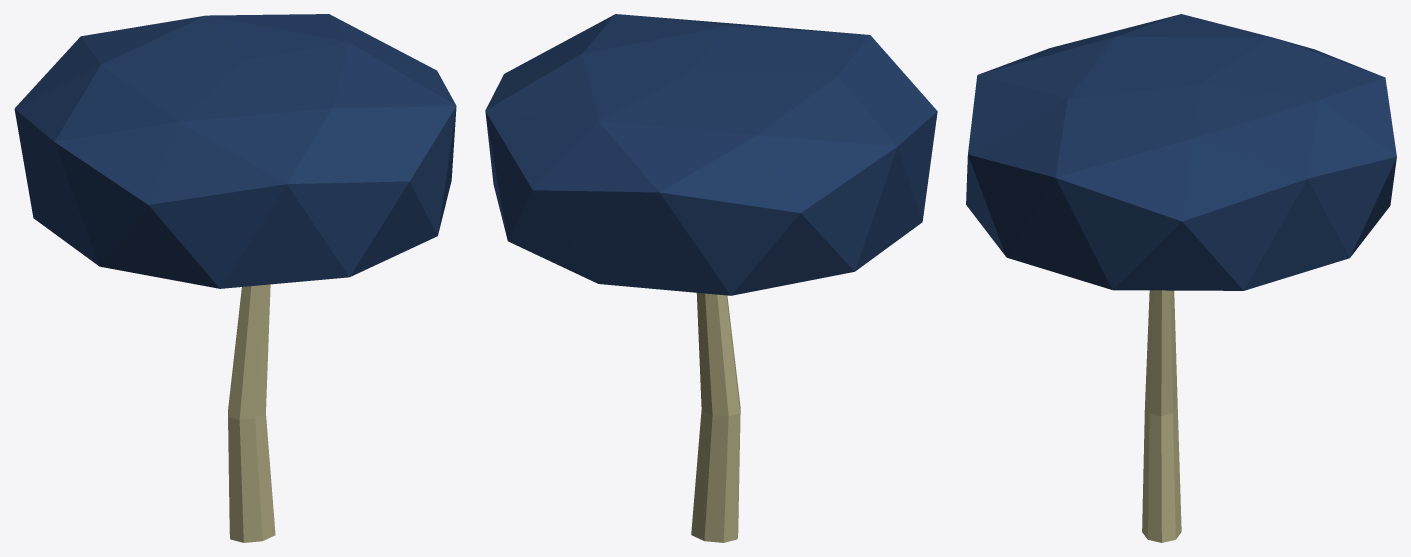
The model's file is flat_mushroom_blue.fbx.
3 renders of one model, left to right at view 1: azimuth 30°, elevation 25°; view 2: azimuth 150°, elevation 25°; view 3: azimuth 270°, elevation 25°, orthographic. The views are drawn at different scales.
Parts seen in each view (by area): view 1: flat_mushroom_blue; view 2: flat_mushroom_blue; view 3: flat_mushroom_blue.
Boxes of the visible parts, <box> form: flat_mushroom_blue: <box>14,14,456,542</box>; flat_mushroom_blue: <box>485,14,937,542</box>; flat_mushroom_blue: <box>966,14,1396,542</box>.
Size of the model in its own units: 60.92 by 69.49 by 59.83.
